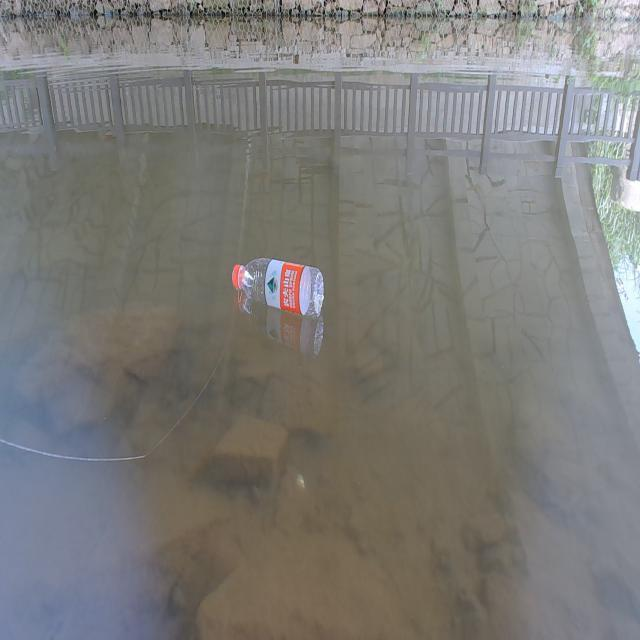bottle: (212, 223, 346, 350)
